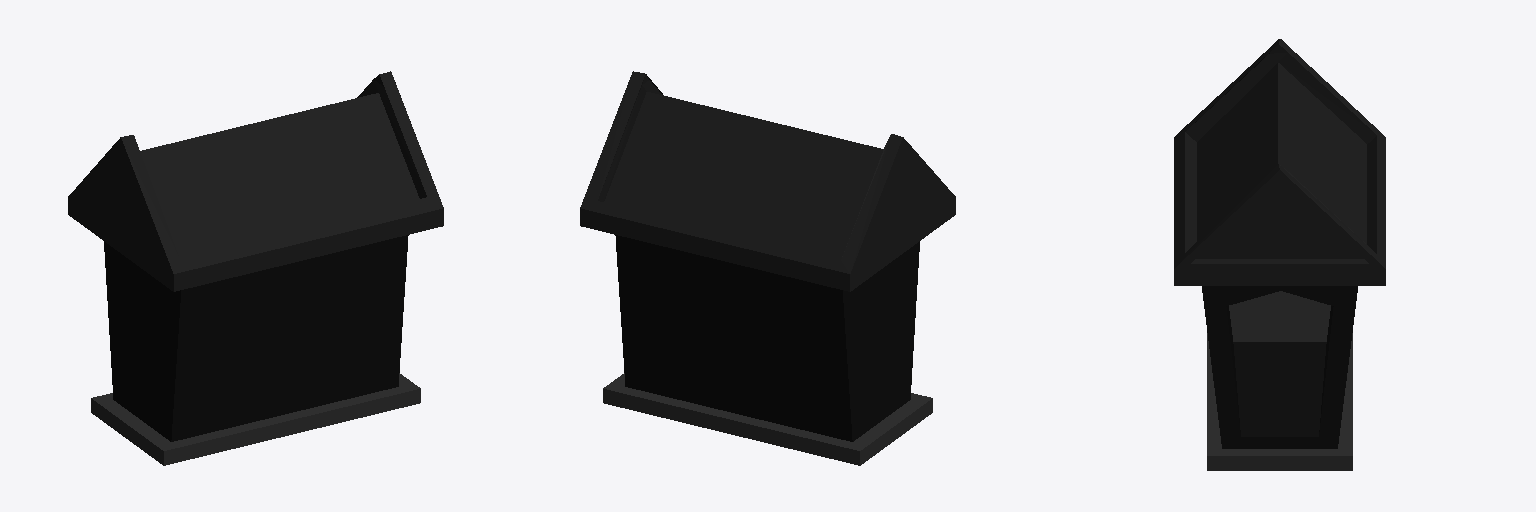
The model's file is CryptTexture.obj.
3 views of the same model, side by side, from view 1: azimuth 30°, elevation 25°; view 2: azimuth 150°, elevation 25°; view 3: azimuth 270°, elevation 25° (orthographic).
Visible parts, largest first — view 1: pCube9 Crypt; view 2: pCube9 Crypt; view 3: pCube9 Crypt.
Part boxes in pixels (left/top/right/bottom): pCube9 Crypt: left=68, top=71, right=443, bottom=465; pCube9 Crypt: left=580, top=71, right=955, bottom=465; pCube9 Crypt: left=1174, top=39, right=1385, bottom=470.
Bounding box in the file's own units: 2.14 × 2.3 × 1.45.